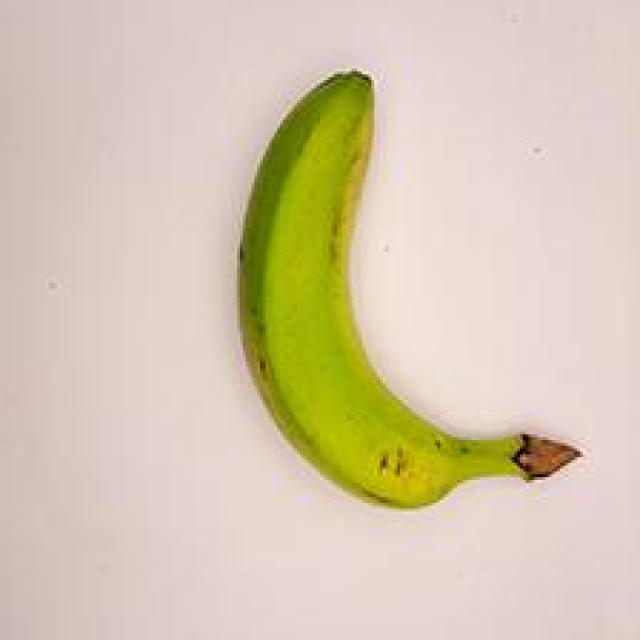Unripe: (195, 47, 603, 536)
